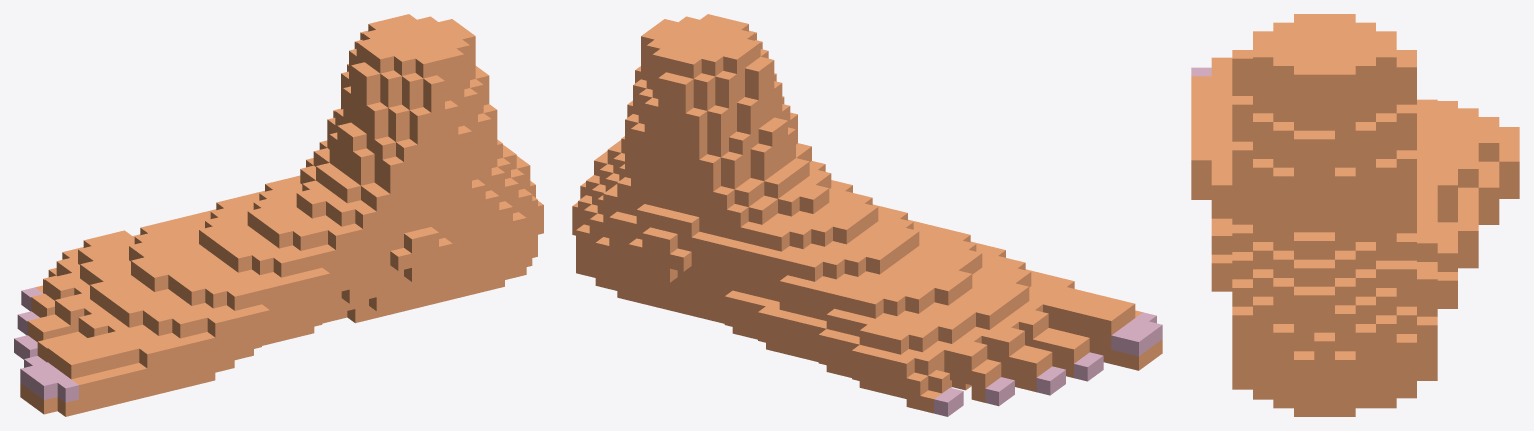
Rendered from Light.fbx.
The picture shows the model from 3 angles, left to right: view 1: azimuth 30°, elevation 25°; view 2: azimuth 150°, elevation 25°; view 3: azimuth 270°, elevation 25°; orthographic projection. The views are drawn at different scales.
Visible parts, largest first — view 1: Untitled; view 2: Untitled; view 3: Untitled.
Boxes of the visible parts, x1,y1,x2,y2 form: Untitled: (14, 14, 543, 416); Untitled: (572, 14, 1162, 416); Untitled: (1191, 14, 1519, 416).
Bounding box in the file's own units: 390 × 170 × 160.
